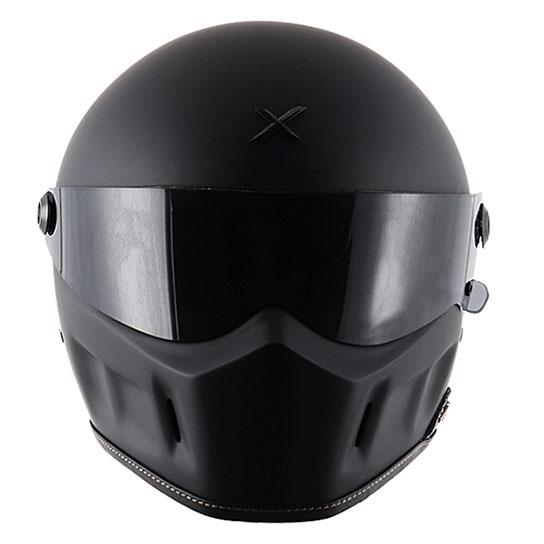helmet: (18, 18, 494, 519)
